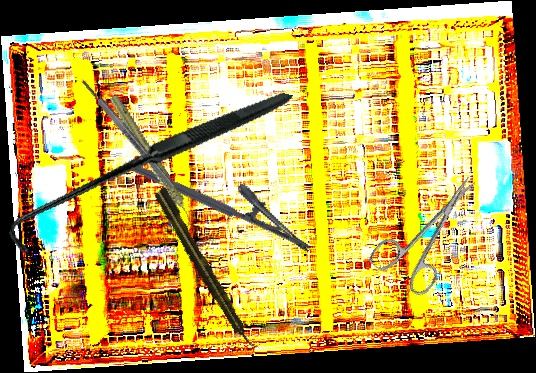Handpiece: (151, 184, 260, 356), (107, 83, 195, 240)
Hook Surgical: (5, 33, 294, 310)
Iris Scissors: (366, 159, 500, 303)
Needle Holder: (128, 137, 323, 254)
Scalpel Handle: (79, 77, 177, 191)
